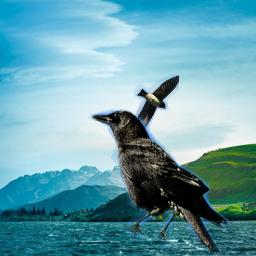Crow: (85, 108, 230, 255)
Swallow: (134, 74, 179, 134)
